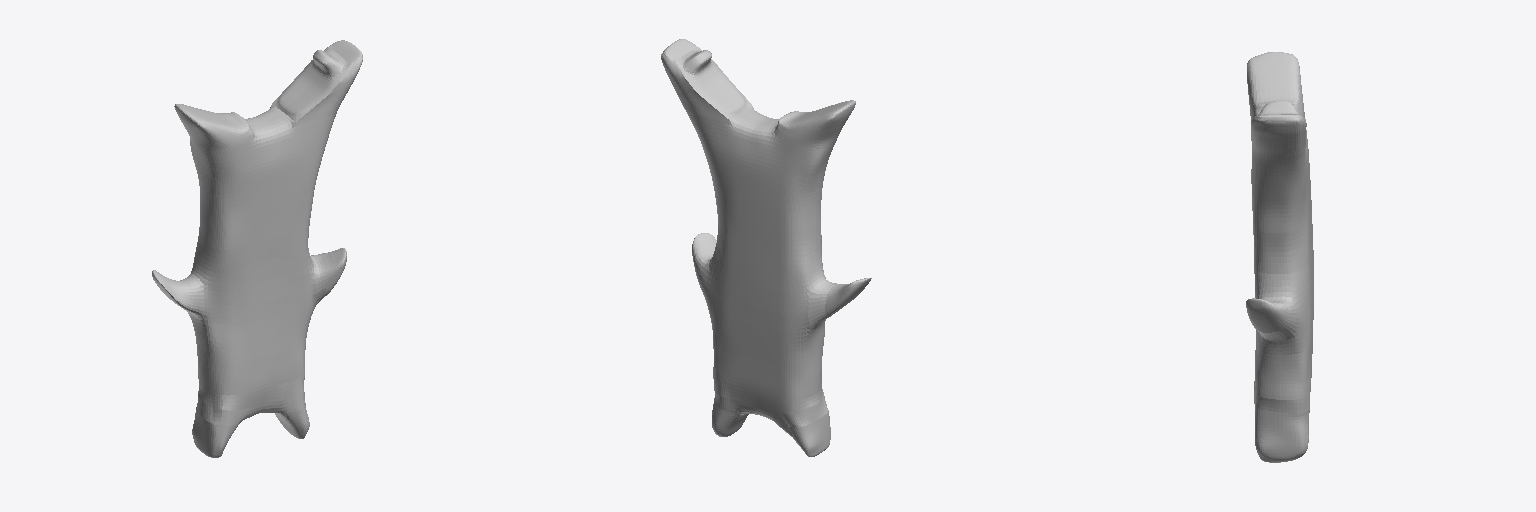
File: korok21.obj
3 renders of one model, left to right at view 1: azimuth 30°, elevation 25°; view 2: azimuth 150°, elevation 25°; view 3: azimuth 270°, elevation 25°, orthographic.
Parts seen in each view (by area): view 1: Plane; view 2: Plane; view 3: Plane.
Boxes of the visible parts, x1=… form: Plane: x1=152, y1=40, x2=362, y2=457; Plane: x1=661, y1=39, x2=871, y2=456; Plane: x1=1246, y1=52, x2=1313, y2=462.
Size of the model in its own units: 1.01 by 1.83 by 0.301.